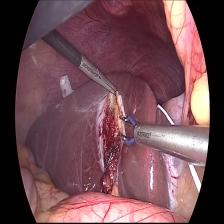Bipolar: (115, 113, 139, 145)
Grasper: (79, 58, 119, 98)
Specimen Bag: (54, 72, 76, 96)
